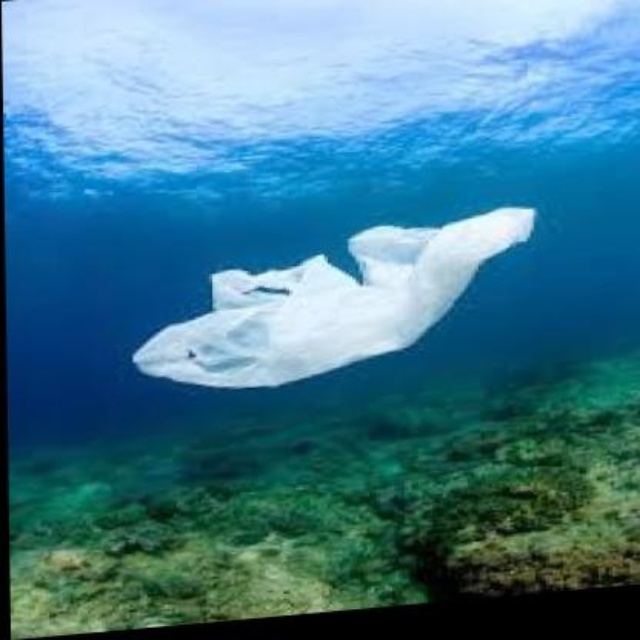trash: (132, 208, 534, 386)
